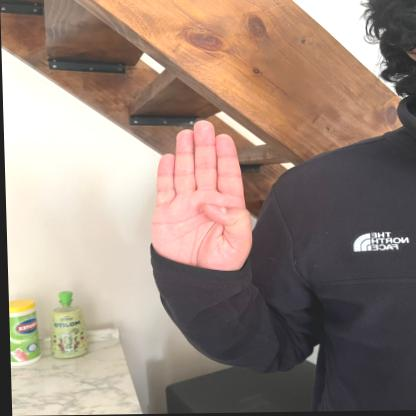B: (144, 116, 254, 283)
